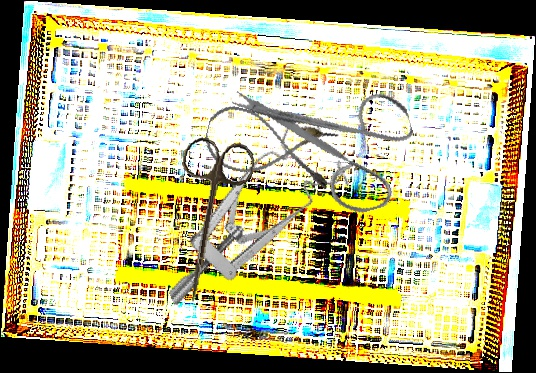Cannula: (199, 101, 340, 193)
Iris Scissors: (229, 48, 431, 239), (161, 134, 257, 309)
Speculum: (125, 108, 368, 308)
